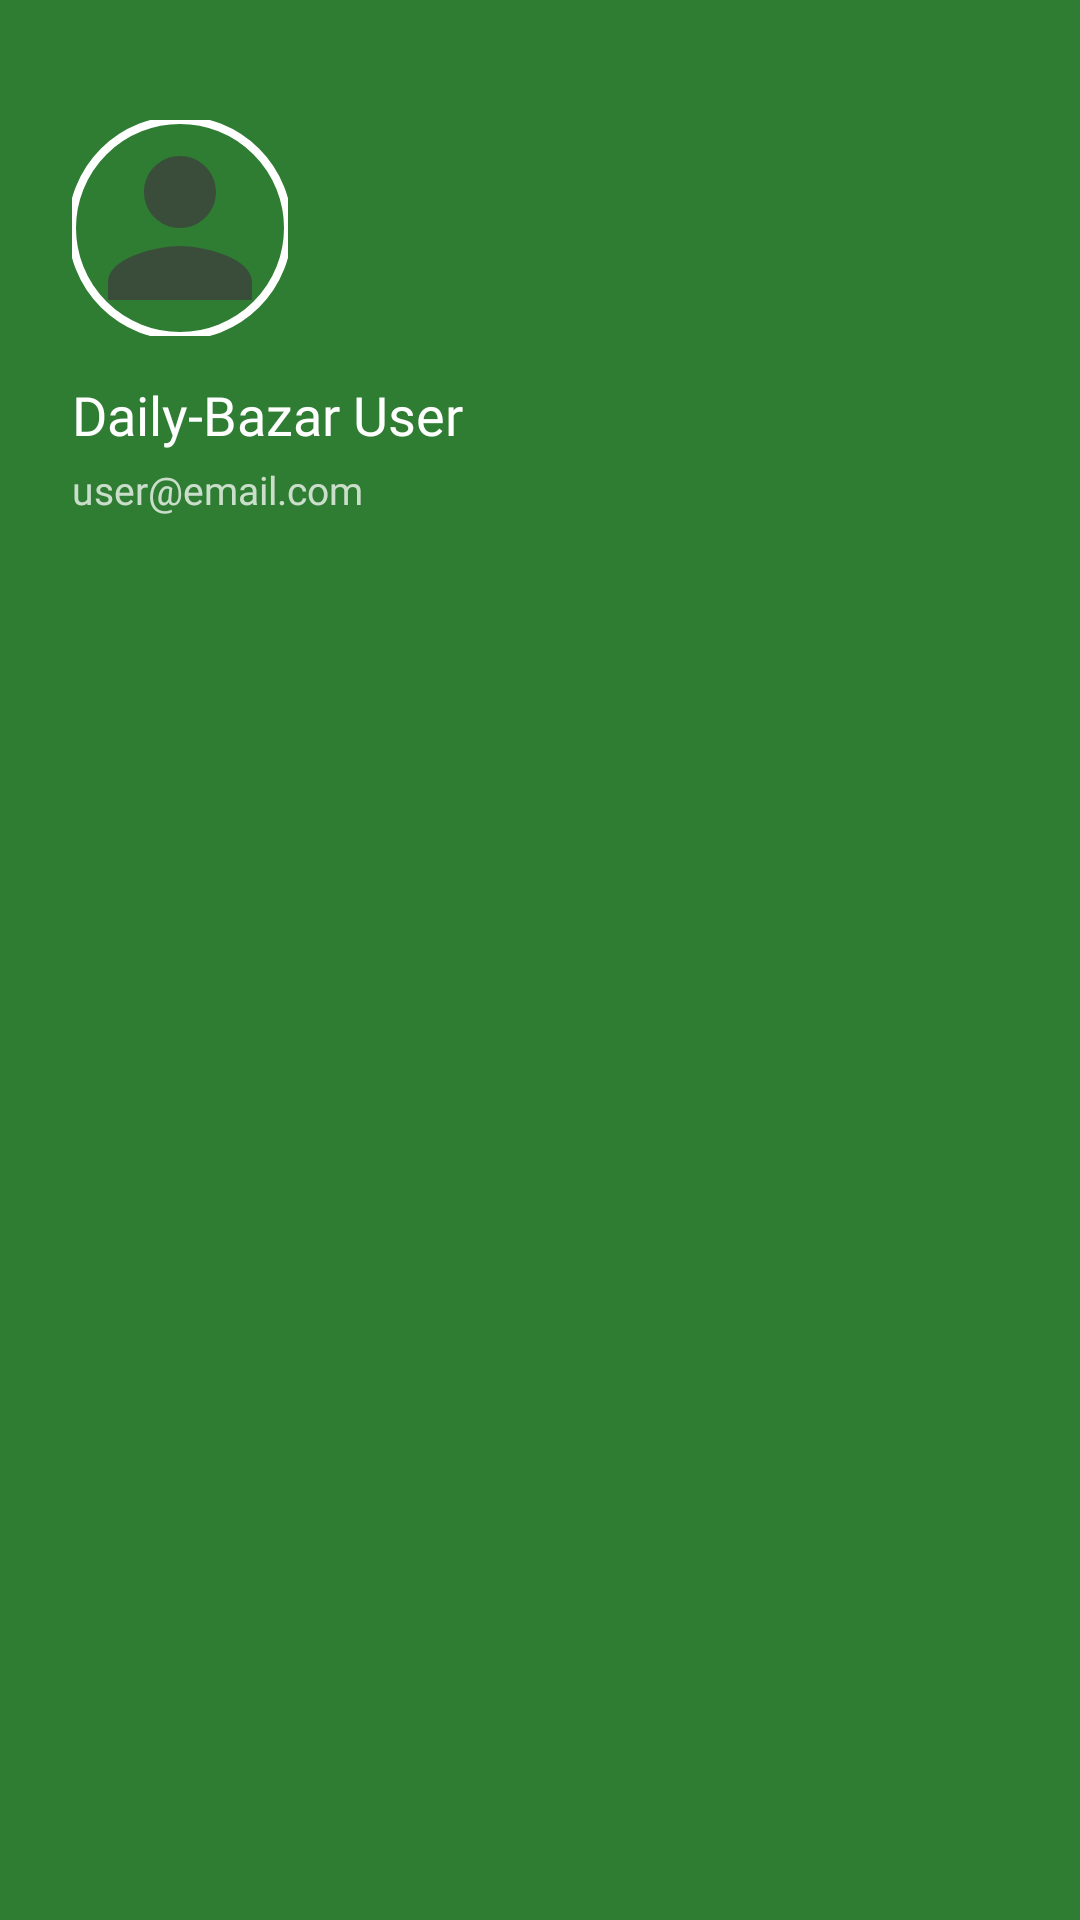

Named icons in this screenshot (1080x1920) and their centers, (x=x, y=y):
profile: (x=180, y=228)
